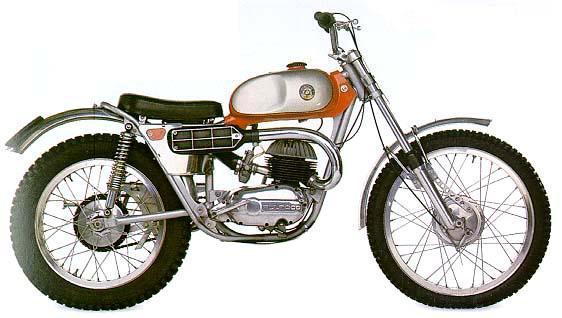motorcycle: (4, 11, 562, 318)
